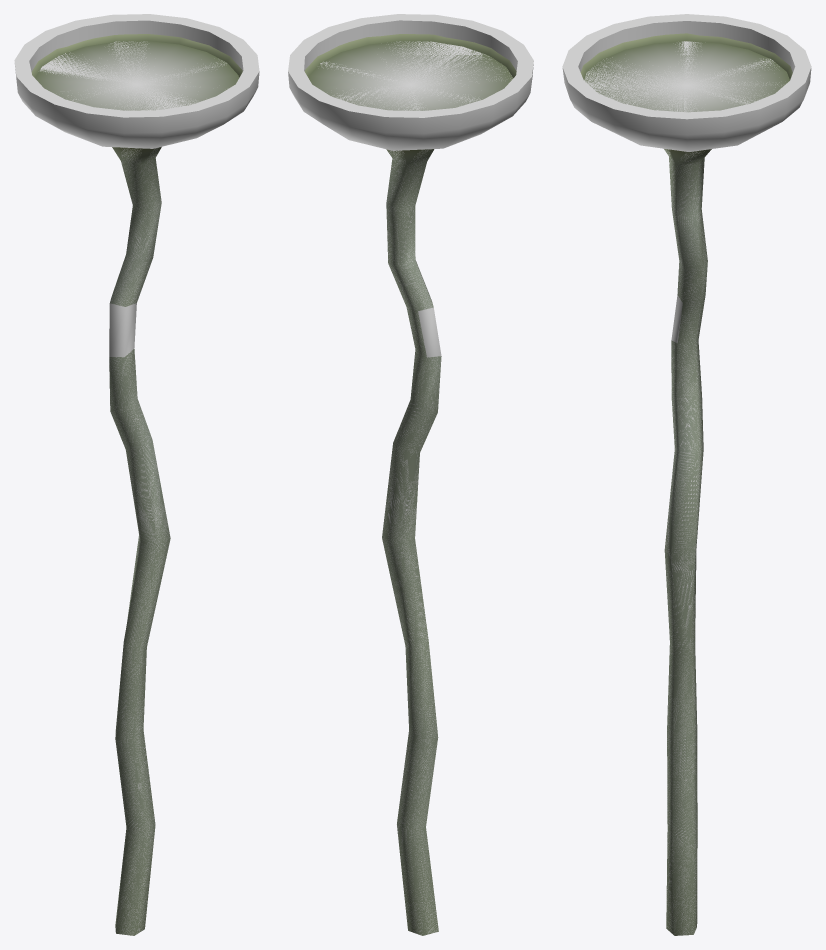
Rendered from LotasPlatform.gltf.
3 renders of one model, left to right at view 1: azimuth 30°, elevation 25°; view 2: azimuth 150°, elevation 25°; view 3: azimuth 270°, elevation 25°, orthographic.
Visible parts, largest first — view 1: LotasPlatformMesh, LotasPlatformColWall, LotasPlatformColFloor; view 2: LotasPlatformMesh, LotasPlatformColWall, LotasPlatformColFloor; view 3: LotasPlatformMesh, LotasPlatformColWall, LotasPlatformColFloor.
Boxes of the visible parts, <box> form: LotasPlatformMesh: <box>31,34,242,935</box>; LotasPlatformColWall: <box>15,20,259,935</box>; LotasPlatformColFloor: <box>14,14,259,117</box>; LotasPlatformMesh: <box>304,34,516,935</box>; LotasPlatformColWall: <box>288,20,533,934</box>; LotasPlatformColFloor: <box>288,14,533,117</box>; LotasPlatformMesh: <box>580,33,792,935</box>; LotasPlatformColWall: <box>562,21,811,935</box>; LotasPlatformColFloor: <box>562,14,811,119</box>.
Bounding box in the file's own units: 7.24 × 27.84 × 7.24.
